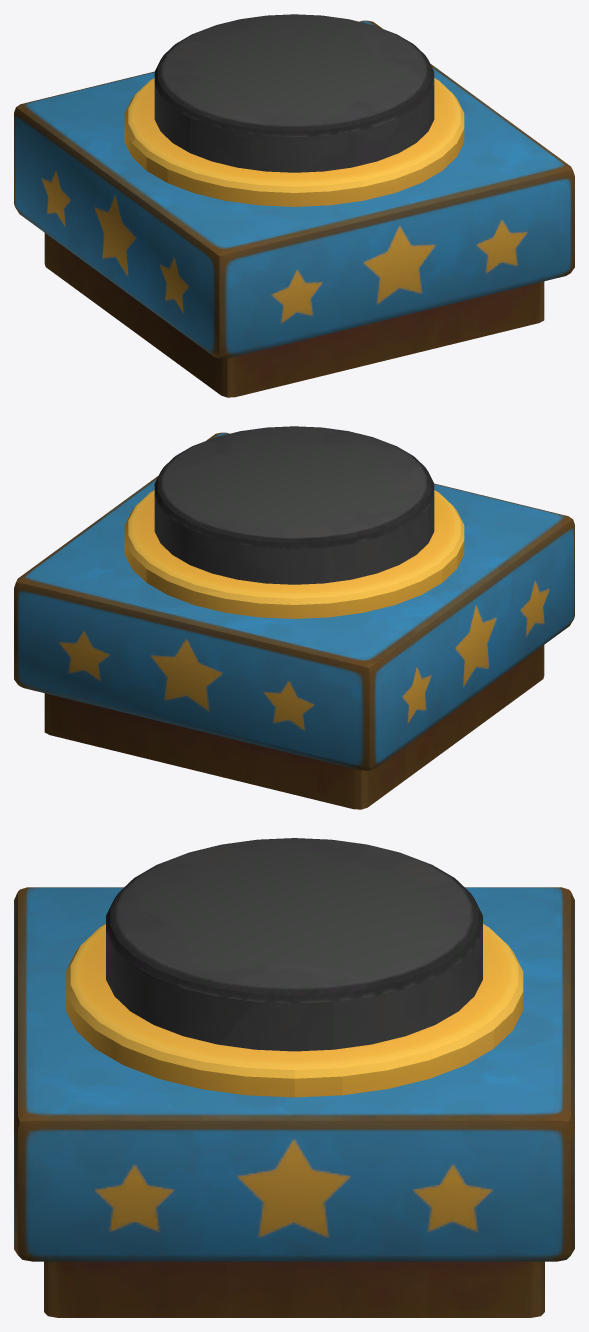
File: ButtonOff2.fbx
3 views of the same model, one above another, from view 1: azimuth 30°, elevation 25°; view 2: azimuth 150°, elevation 25°; view 3: azimuth 270°, elevation 25° (orthographic). The views are drawn at different scales.
Parts seen in each view (by area): view 1: Combined Mesh (root_ scene); view 2: Combined Mesh (root_ scene); view 3: Combined Mesh (root_ scene).
Part boxes in pixels (x1,y1,x2,y2): Combined Mesh (root_ scene): [14, 14, 574, 397]; Combined Mesh (root_ scene): [14, 426, 574, 809]; Combined Mesh (root_ scene): [14, 838, 574, 1317].
Size of the model in its own units: 120 by 120 by 70.45.
Materials: 1 (1 with a texture image).
